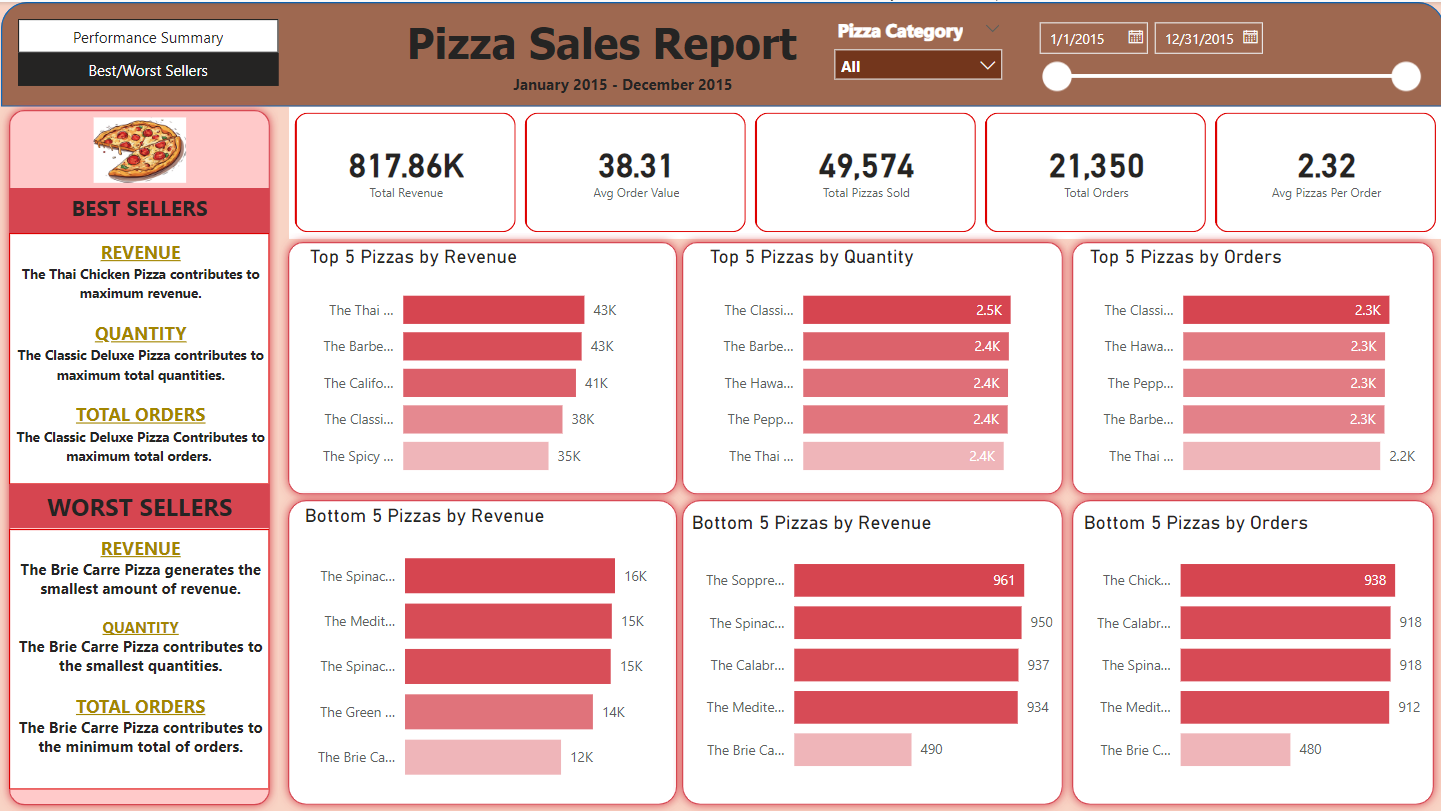

Layout of this report page (visuals, bound fields, positions):
{"tool":"powerbi","page":{"name":"Best/Worst Sellers","canvas":[1280,720],"ordinal":1},"visuals":[{"type":"cardVisual","fields":{"Data":["Pizza_sales.Total Revenue","Pizza_sales.Avg Order Value","Pizza_sales.Total Pizzas Sold","Pizza_sales.Total Orders","Pizza_sales.Avg Pizzas Per Order"]},"box":[256,92.7,1023.5,116.7],"z":0},{"type":"shape","box":[0.6,0,1279.7,92.7],"z":1000},{"type":"textbox","box":[318.4,8.7,430.3,55],"z":2000},{"type":"textbox","box":[440.2,59.3,225,33.4],"z":3000},{"type":"shape","box":[247.3,204.6,361,239.9],"z":4000},{"type":"shape","box":[597.2,204.6,353.6,239.9],"z":5000},{"type":"shape","box":[942.8,204.6,336.9,239.9],"z":6000},{"type":"shape","box":[0,87.8,247.3,632.4],"z":7000},{"type":"textbox","box":[7.8,164.8,231.5,39.9],"z":8000},{"type":"textbox","box":[7.8,204.7,231.5,223],"z":9000},{"type":"textbox","box":[7.8,427.7,231.5,39.2],"z":10000},{"type":"textbox","box":[7.8,466.9,231.5,231.5],"z":11000},{"type":"slicer","fields":{"Values":["Pizza_sales.pizza_category"]},"box":[730.1,8.7,168.8,75.4],"z":12000},{"type":"slicer","fields":{"Values":["Pizza_sales.order_date"]},"box":[908.8,8,359.2,76],"z":13000},{"type":"shape","box":[247.3,434,361,286.2],"z":14000},{"type":"shape","box":[597.2,434,353.6,286.2],"z":15000},{"type":"shape","box":[942.8,434,336.9,286.2],"z":16000},{"type":"clusteredBarChart","title":"Top 5 Pizzas by Revenue","fields":{"Category":["Pizza_sales.pizza_name"],"Y":["Pizza_sales.Total Revenue"]},"box":[269.4,215.8,300.2,218.4],"z":17000},{"type":"clusteredBarChart","title":"Bottom 5 Pizzas by Revenue","fields":{"Category":["Pizza_sales.pizza_name"],"Y":["Pizza_sales.Total Revenue"]},"box":[264.9,444.7,324.4,262.2],"z":18000},{"type":"clusteredBarChart","title":"Top 5 Pizzas by Quantity","fields":{"Category":["Pizza_sales.pizza_name"],"Y":["Pizza_sales.Total Pizzas Sold"]},"box":[623.9,215.2,300.2,218.4],"z":19000},{"type":"clusteredBarChart","title":"Bottom 5 Pizzas by Revenue","fields":{"Category":["Pizza_sales.pizza_name"],"Y":["Pizza_sales.Total Pizzas Sold"]},"box":[608.2,451.2,330.2,247.2],"z":20000},{"type":"clusteredBarChart","title":"Top 5 Pizzas by Orders","fields":{"Category":["Pizza_sales.pizza_name"],"Y":["Pizza_sales.Total Orders"]},"box":[961.3,215.8,300.2,218.4],"z":21000},{"type":"clusteredBarChart","title":"Bottom 5 Pizzas by Orders","fields":{"Category":["Pizza_sales.pizza_name"],"Y":["Pizza_sales.Total Orders"]},"box":[956.1,451.2,311.9,247.2],"z":22000},{"type":"pageNavigator","box":[15.7,44.5,231.5,30.7],"z":23000},{"type":"pageNavigator","box":[15.7,15,231.5,30.7],"z":24000},{"type":"image","box":[77.8,83.7,91.6,96.1],"z":25000}]}

Visuals, with their boxes in screenshot pixels (x1, y1, x2, y2), scaled from the page's 1280x720 canvas onto the 1441x811 screenshot:
cardVisual - Pizza_sales.Total Revenue x Pizza_sales.Avg Order Value: rect(288, 104, 1440, 236)
shape: rect(1, 0, 1440, 104)
textbox: rect(358, 10, 843, 72)
textbox: rect(496, 67, 749, 104)
shape: rect(278, 230, 685, 501)
shape: rect(672, 230, 1070, 501)
shape: rect(1061, 230, 1440, 501)
shape: rect(0, 99, 278, 810)
textbox: rect(9, 186, 269, 231)
textbox: rect(9, 231, 269, 482)
textbox: rect(9, 482, 269, 526)
textbox: rect(9, 526, 269, 787)
slicer - Pizza_sales.pizza_category: rect(822, 10, 1012, 95)
slicer - Pizza_sales.order_date: rect(1023, 9, 1427, 95)
shape: rect(278, 489, 685, 810)
shape: rect(672, 489, 1070, 810)
shape: rect(1061, 489, 1440, 810)
"Top 5 Pizzas by Revenue" clusteredBarChart: rect(303, 243, 641, 489)
"Bottom 5 Pizzas by Revenue" clusteredBarChart: rect(298, 501, 663, 796)
"Top 5 Pizzas by Quantity" clusteredBarChart: rect(702, 242, 1040, 488)
"Bottom 5 Pizzas by Revenue" clusteredBarChart: rect(685, 508, 1056, 787)
"Top 5 Pizzas by Orders" clusteredBarChart: rect(1082, 243, 1420, 489)
"Bottom 5 Pizzas by Orders" clusteredBarChart: rect(1076, 508, 1427, 787)
pageNavigator: rect(18, 50, 278, 85)
pageNavigator: rect(18, 17, 278, 51)
image: rect(88, 94, 191, 203)
